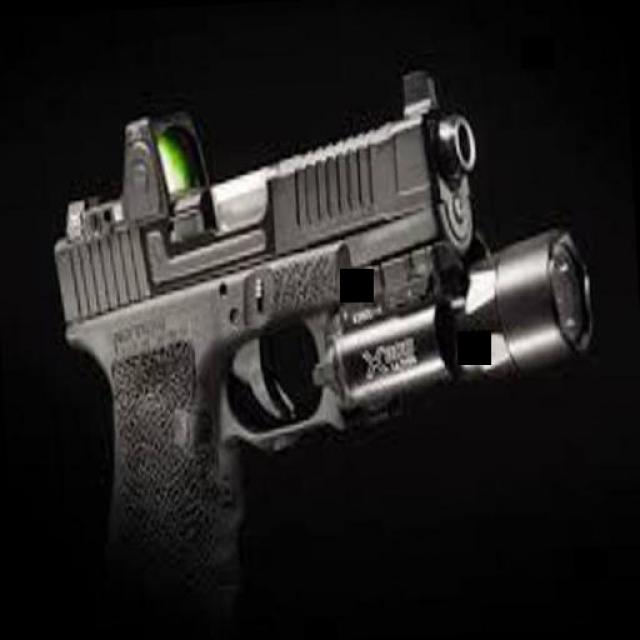gun: (42, 51, 608, 640)
